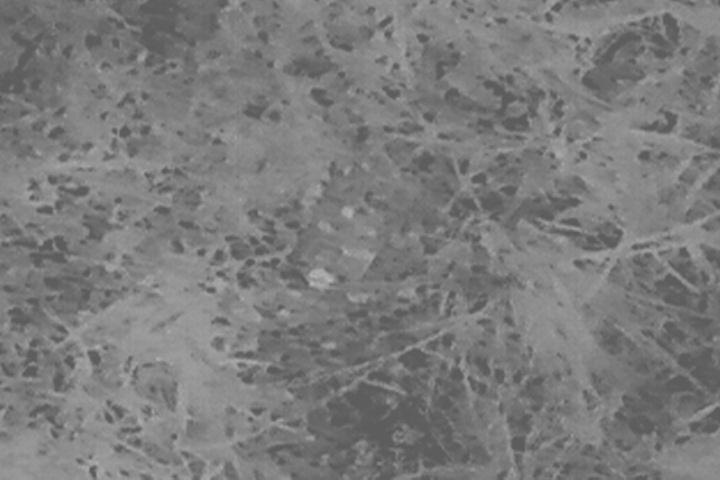landmine: (298, 151, 382, 295)
